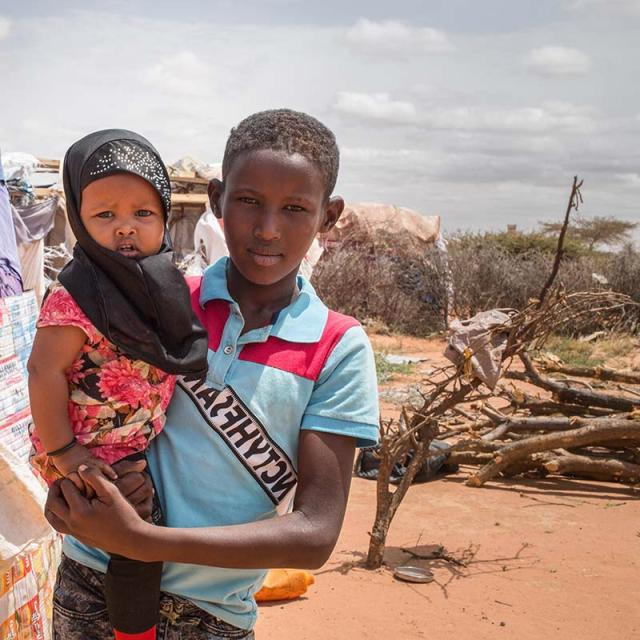child: (43, 105, 373, 640), (26, 128, 186, 640)
